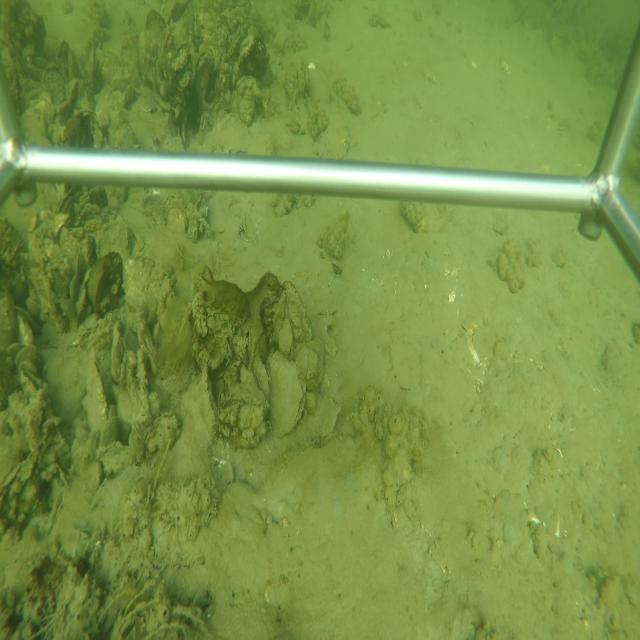Oyster-Closed: (267, 348, 308, 442), (283, 276, 315, 343), (193, 360, 218, 443)
Oyster-Indeterminate: (86, 353, 109, 434)
